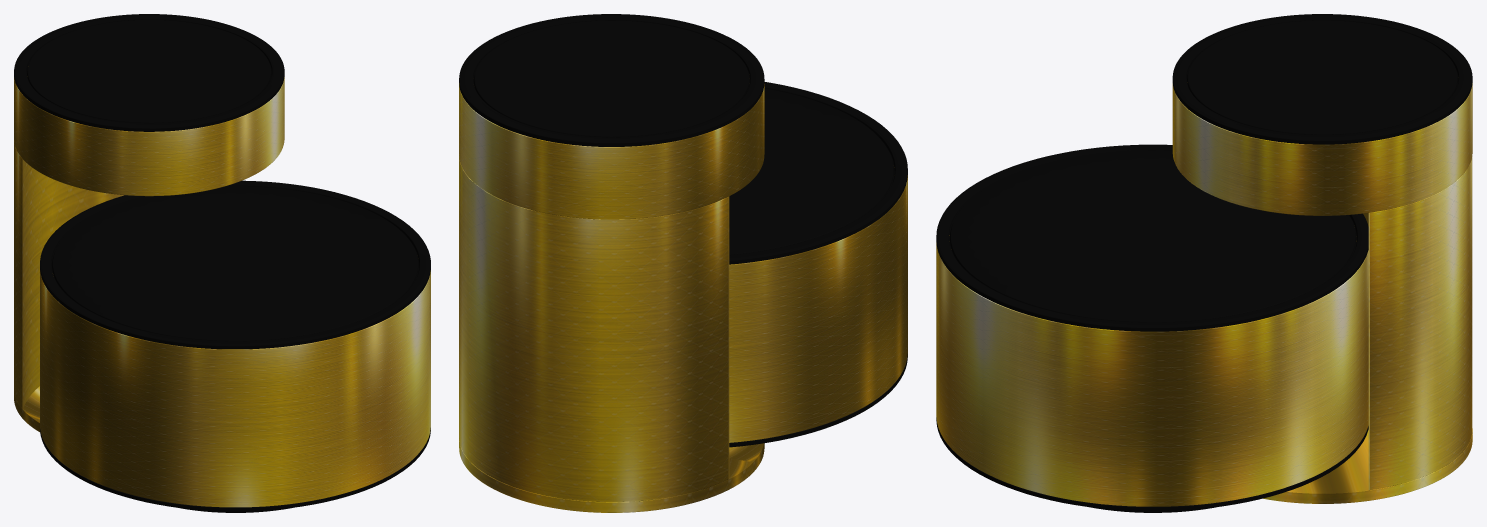
File: Golden_center_table02.glb
3 renders of one model, left to right at view 1: azimuth 30°, elevation 25°; view 2: azimuth 150°, elevation 25°; view 3: azimuth 270°, elevation 25°, orthographic. The views are drawn at different scales.
Parts seen in each view (by area): view 1: Cylinder001.2, Cylinder002.4, Cylinder003.3; view 2: Cylinder003.3, Cylinder002.4, Cylinder001.2; view 3: Cylinder001.2, Cylinder002.4, Cylinder003.3.
Part boxes in pixels (left/top/right/bottom): Cylinder001.2: left=40, top=180, right=430, bottom=512; Cylinder002.4: left=14, top=14, right=284, bottom=431; Cylinder003.3: left=14, top=140, right=123, bottom=408; Cylinder003.3: left=459, top=154, right=729, bottom=502; Cylinder002.4: left=459, top=14, right=764, bottom=512; Cylinder001.2: left=729, top=82, right=907, bottom=447; Cylinder001.2: left=936, top=144, right=1368, bottom=512; Cylinder002.4: left=1172, top=14, right=1472, bottom=503; Cylinder003.3: left=1363, top=157, right=1472, bottom=490.
Bounding box in the file's own units: 0.7485 × 0.6928 × 0.9259.
7 materials, 3 textured.
